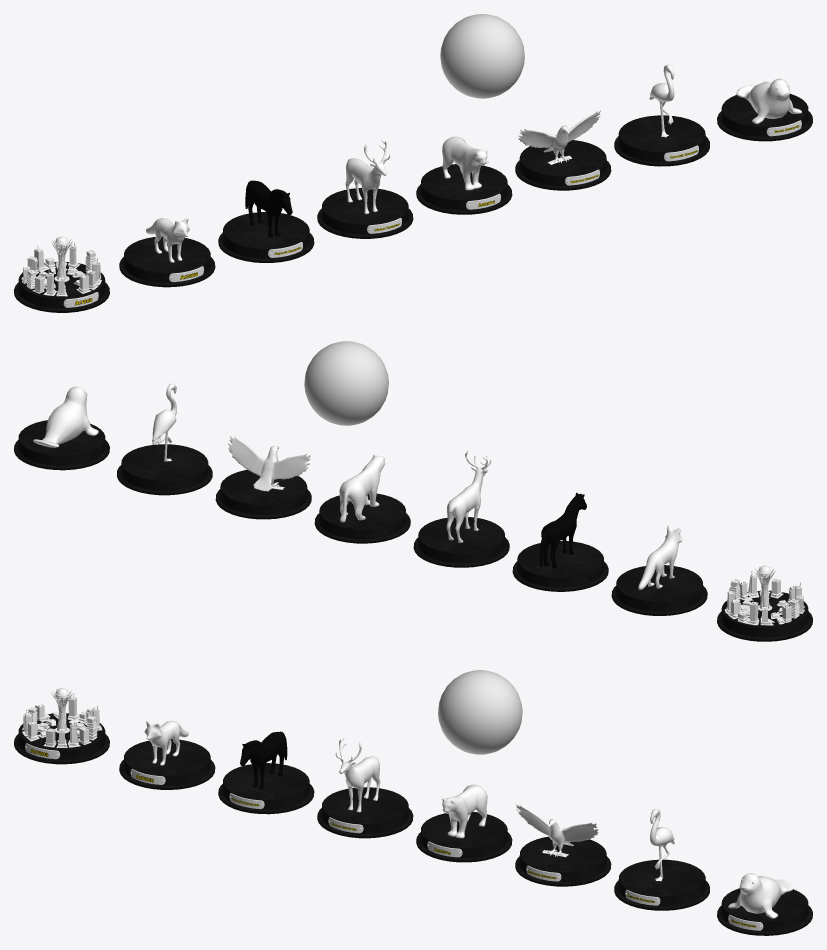
File: achievments.fbx
3 views of the same model, one above another, from view 1: azimuth 30°, elevation 25°; view 2: azimuth 150°, elevation 25°; view 3: azimuth 330°, elevation 25° (orthographic).
Visible parts, largest first — view 1: Sphere.001, Trophie_OntKaz, Trophie_ShygKaz, Trophie_OrtKaz, Trophie_Almaty, Trophie_Astana2, Trophie_Astana, Trophie_SolKaz, Trophie_BatKaz; view 2: Sphere.001, Trophie_OrtKaz, Trophie_ShygKaz, Trophie_OntKaz, Trophie_Astana2, Trophie_Almaty, Trophie_BatKaz, Trophie_SolKaz, Trophie_Astana; view 3: Sphere.001, Trophie_ShygKaz, Trophie_OntKaz, Trophie_OrtKaz, Trophie_Almaty, Trophie_Astana2, Trophie_SolKaz, Trophie_Astana, Trophie_BatKaz.
Part boxes in pixels (x1,y1,x2,y2): Sphere.001: (440,14,524,98); Trophie_OntKaz: (218,180,314,262); Trophie_ShygKaz: (317,140,413,238); Trophie_OrtKaz: (515,110,611,190); Trophie_Almaty: (416,136,512,214); Trophie_Astana2: (14,236,109,312); Trophie_Astana: (119,218,215,287); Trophie_SolKaz: (614,64,709,166); Trophie_BatKaz: (717,78,812,141); Sphere.001: (304,341,388,425); Trophie_OrtKaz: (215,435,311,519); Trophie_ShygKaz: (413,450,509,567); Trophie_OntKaz: (512,492,608,591); Trophie_Astana2: (717,565,812,641); Trophie_Almaty: (314,454,410,543); Trophie_BatKaz: (14,386,109,470); Trophie_SolKaz: (117,383,212,495); Trophie_Astana: (611,525,707,615); Sphere.001: (438,670,522,754); Trophie_ShygKaz: (317,738,413,838); Trophie_OntKaz: (218,731,314,814); Trophie_OrtKaz: (515,803,611,886); Trophie_Almaty: (416,784,512,862); Trophie_Astana2: (14,688,109,764); Trophie_SolKaz: (614,809,709,910); Trophie_Astana: (119,720,215,789); Trophie_BatKaz: (717,873,812,935).
Size of the model in its own units: 2143 by 451 by 231.
